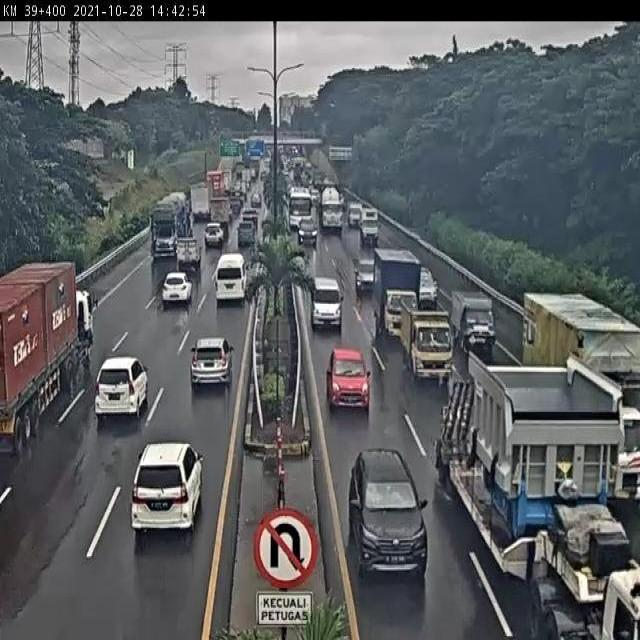big truck: (0, 260, 100, 459)
car: (346, 446, 431, 590), (131, 442, 205, 534), (94, 356, 150, 420), (327, 344, 372, 415), (189, 336, 236, 391), (311, 273, 345, 335), (214, 253, 251, 304), (355, 254, 389, 294), (162, 271, 195, 308)
small truck: (399, 296, 458, 384), (374, 247, 424, 341), (450, 288, 498, 348)
